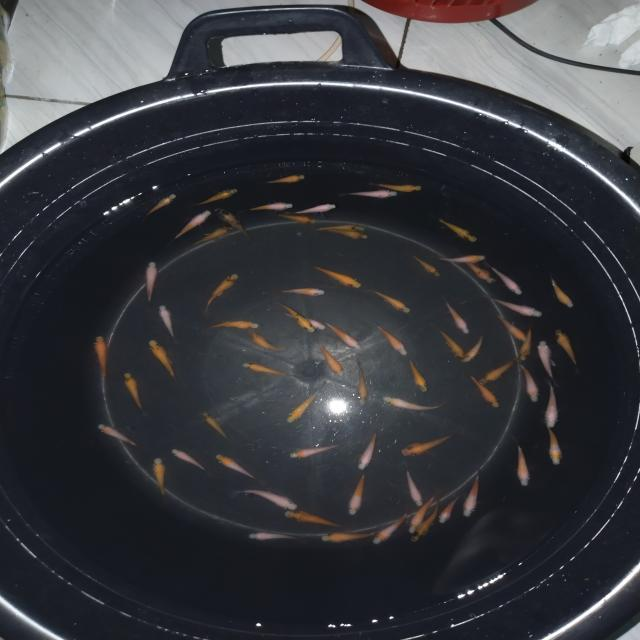nila: (282, 381, 332, 426), (398, 424, 464, 458), (165, 208, 214, 247), (200, 271, 240, 318), (212, 204, 258, 244), (232, 488, 301, 514), (146, 336, 181, 386), (214, 451, 264, 483), (408, 506, 447, 547), (486, 260, 530, 296), (308, 262, 364, 290), (436, 214, 482, 247), (488, 296, 546, 322), (324, 320, 368, 354), (378, 392, 452, 412), (374, 321, 414, 358), (405, 492, 440, 534), (472, 356, 521, 386), (184, 223, 238, 250), (370, 512, 412, 546), (138, 190, 181, 223), (553, 328, 585, 372), (464, 374, 502, 411), (280, 510, 350, 530), (96, 420, 142, 450), (120, 370, 151, 414), (462, 466, 486, 522), (433, 326, 470, 362), (276, 298, 313, 334), (240, 327, 292, 352), (343, 470, 370, 518), (440, 298, 474, 336), (490, 310, 530, 342), (316, 340, 348, 380), (90, 331, 112, 388), (370, 288, 413, 316), (282, 442, 341, 462), (169, 446, 211, 474), (202, 316, 260, 336), (541, 419, 565, 467), (547, 271, 576, 310), (536, 337, 560, 384), (356, 428, 382, 471), (512, 438, 534, 488), (240, 358, 294, 378), (278, 310, 327, 332), (540, 381, 562, 429), (518, 362, 542, 406), (462, 257, 498, 286), (193, 186, 242, 207), (340, 185, 403, 201), (142, 258, 160, 312), (158, 302, 180, 346), (314, 530, 377, 545), (402, 468, 425, 508), (151, 456, 169, 507), (512, 326, 536, 364), (437, 493, 463, 528), (202, 410, 232, 440), (432, 252, 496, 266), (246, 528, 304, 543), (411, 253, 444, 279), (408, 356, 430, 394), (268, 210, 317, 227), (309, 220, 368, 234), (245, 200, 295, 216), (286, 204, 341, 218), (462, 334, 486, 366), (262, 172, 310, 188), (316, 227, 374, 240), (365, 182, 429, 192), (278, 286, 330, 298), (357, 363, 370, 408)
